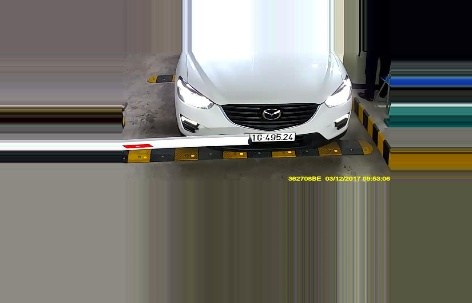plate: (240, 128, 296, 144)
